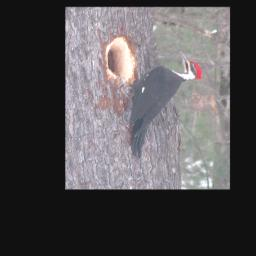Woodpecker: (112, 51, 204, 159)
